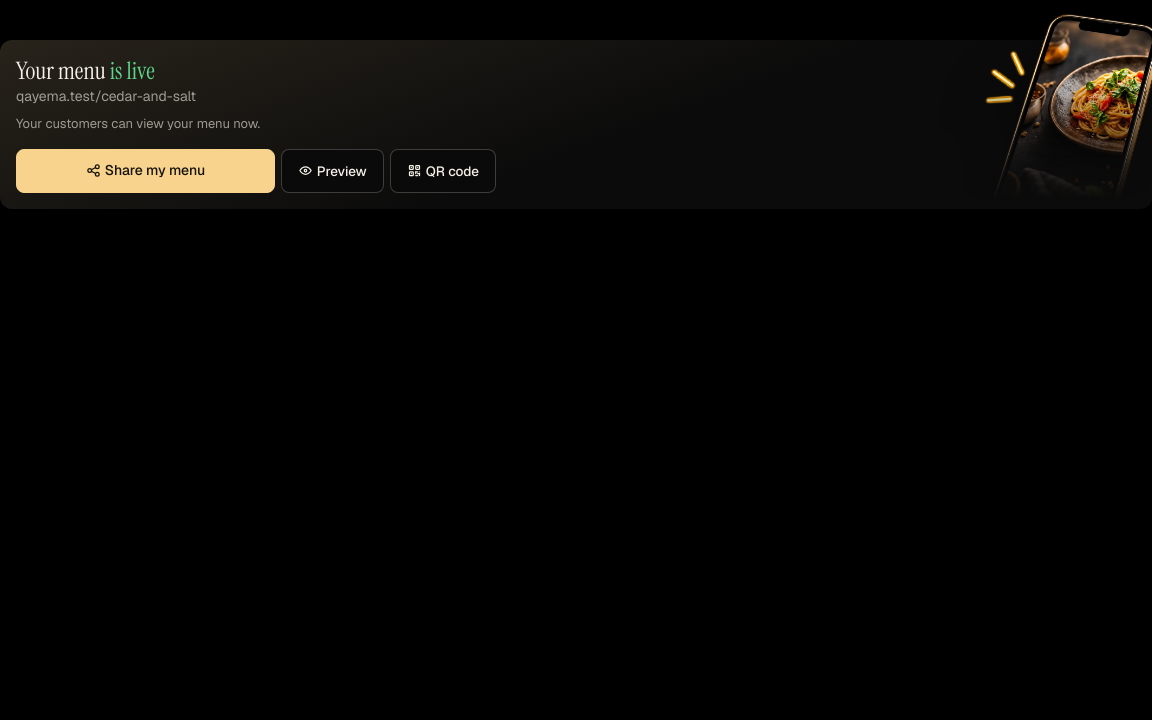
Test case: MenuLinkCard › says the link is copied where there is no share menu, and when the browser refuses
Step 1. Click the button "Share my menu" → (145, 171), box [16,149,275,193]
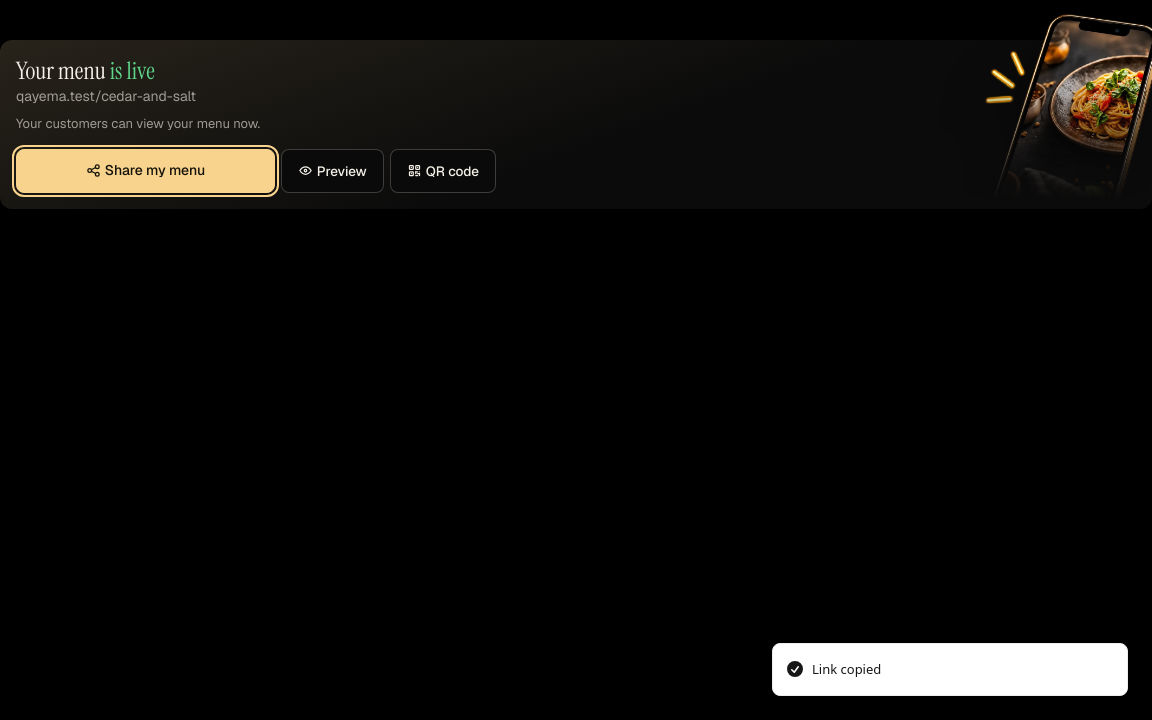
Now the text "Link copied" is shown, box [812,660,881,679]
Step 2. Click the button "Share my menu" → (145, 171), box [16,149,275,193]
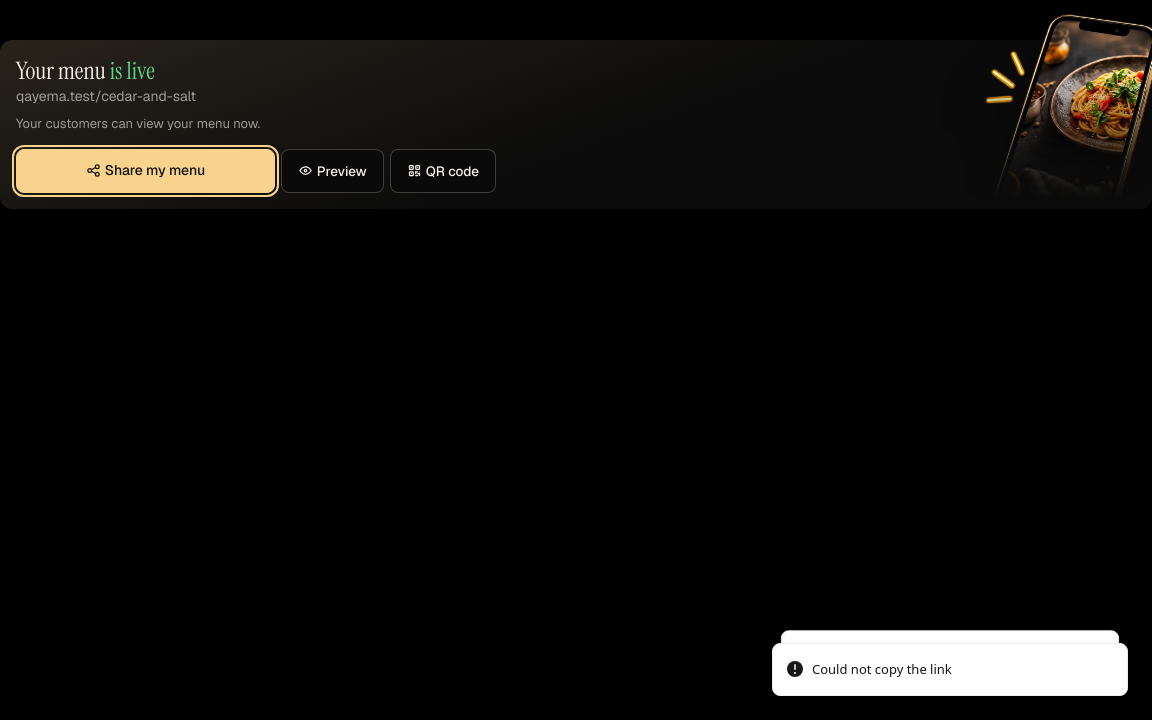
Now the text "Could not copy the link" is shown, box [812,660,952,679]
